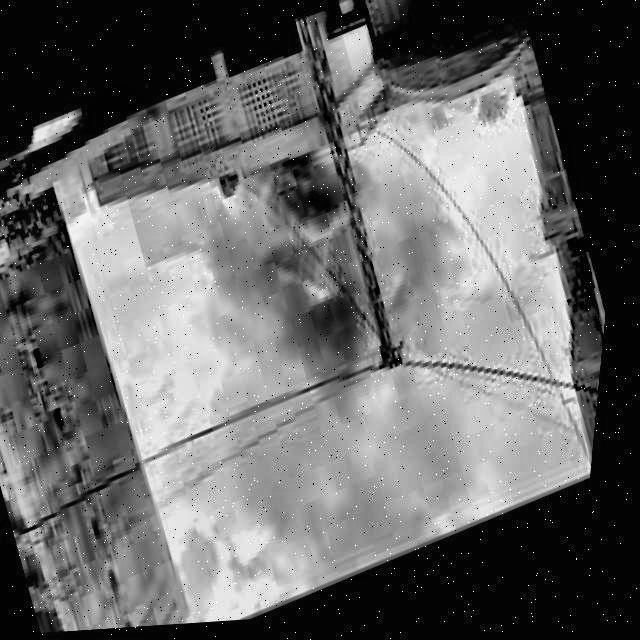Smoke: (150, 99, 566, 605)
